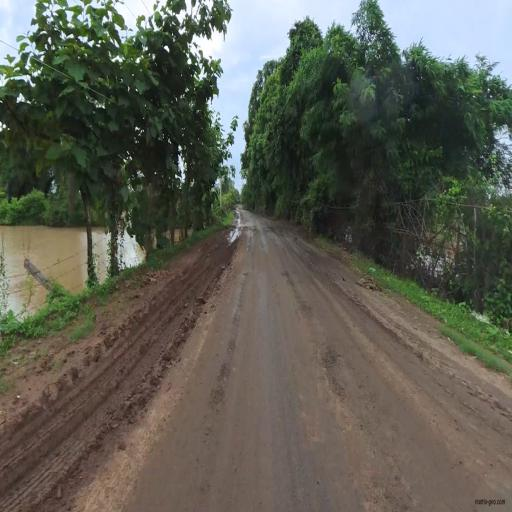ravelling: (274, 218, 360, 427), (206, 255, 265, 432)
